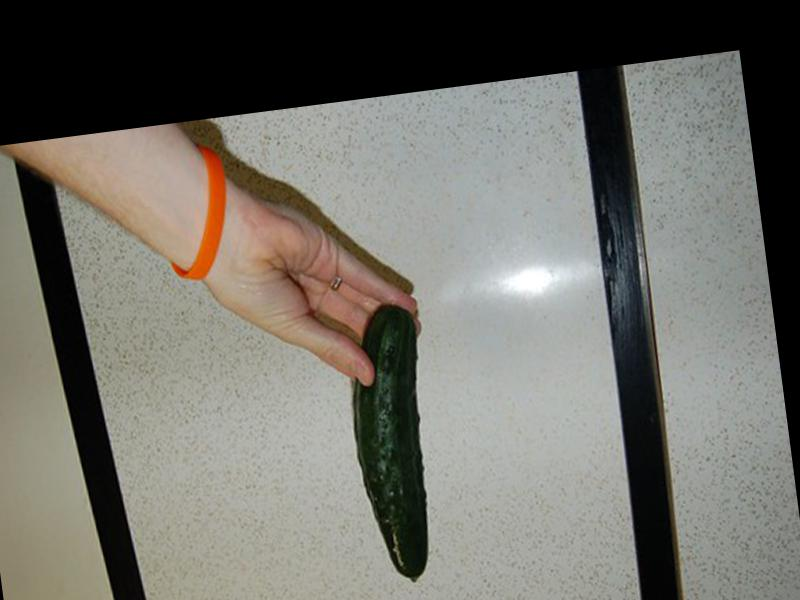Cucumber: (341, 301, 449, 588)
